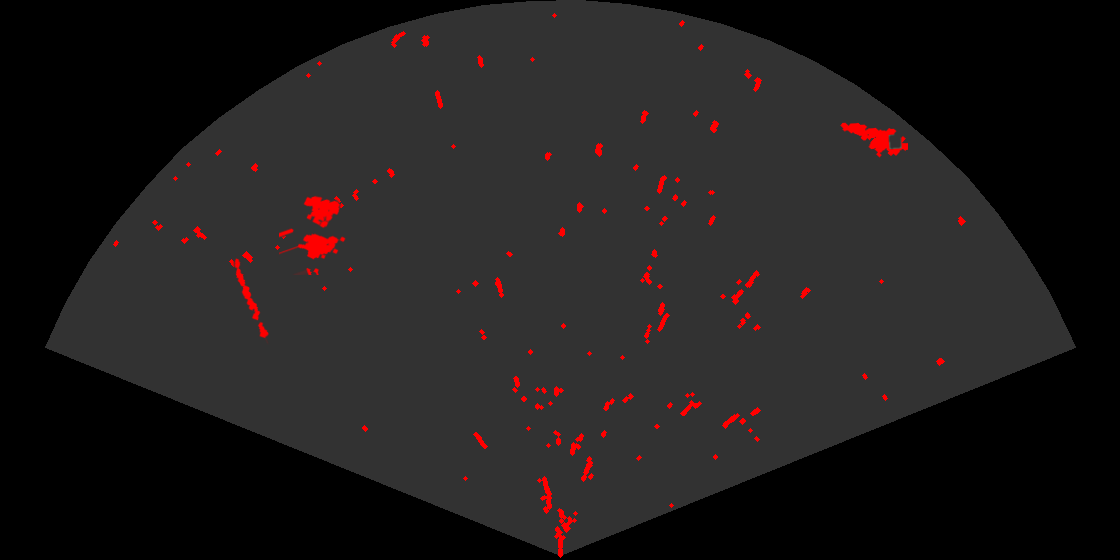cage: (279, 194, 347, 275)
chain: (233, 256, 270, 345)
frogman: (839, 121, 908, 159)
